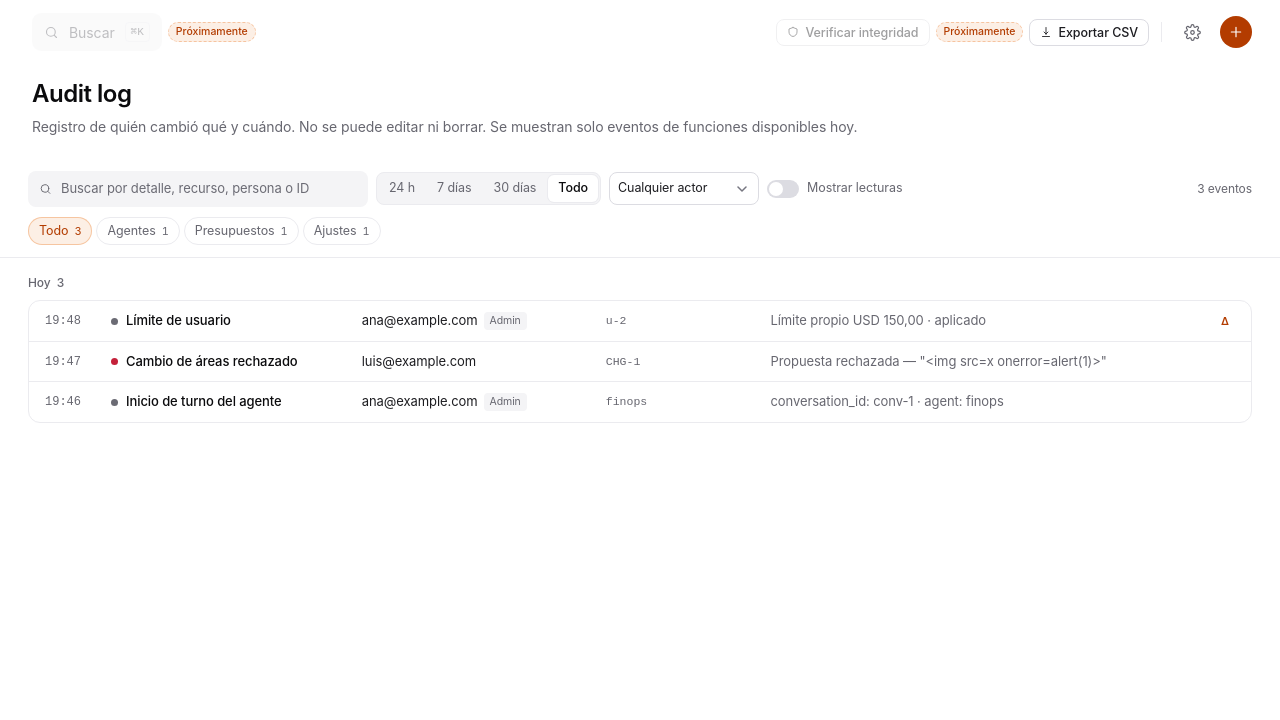
AdminAuditPage › opens the side panel with before/after and filters by resource
The image size is (1280, 720).
Click the text "Límite de usuario" at (171, 320), box [111,312,231,328]
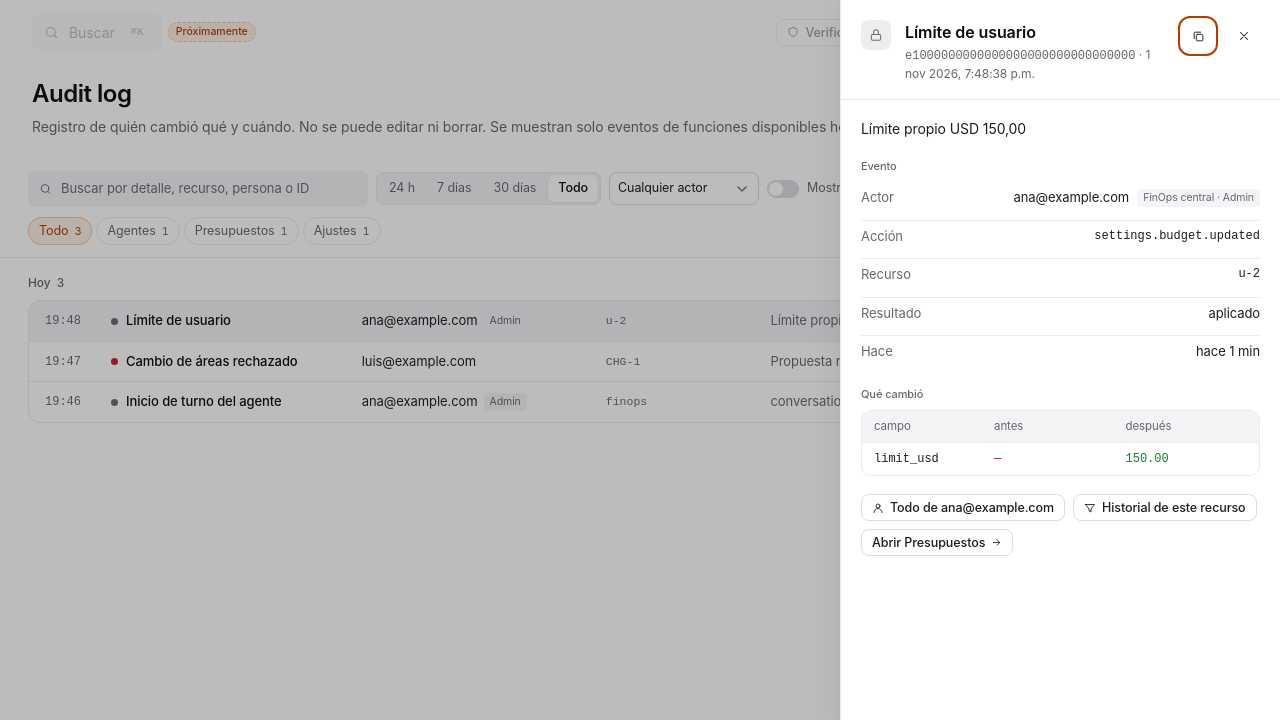
Expected: the heading "Qué cambió" is shown, [861,387,923,401]
Expected: the text "limit_usd" is shown, [874,452,939,466]
Expected: the text "150.00" is shown, [1126,452,1169,466]
Click the button "Historial de este recurso" at (1165, 508), box [1073,494,1257,521]
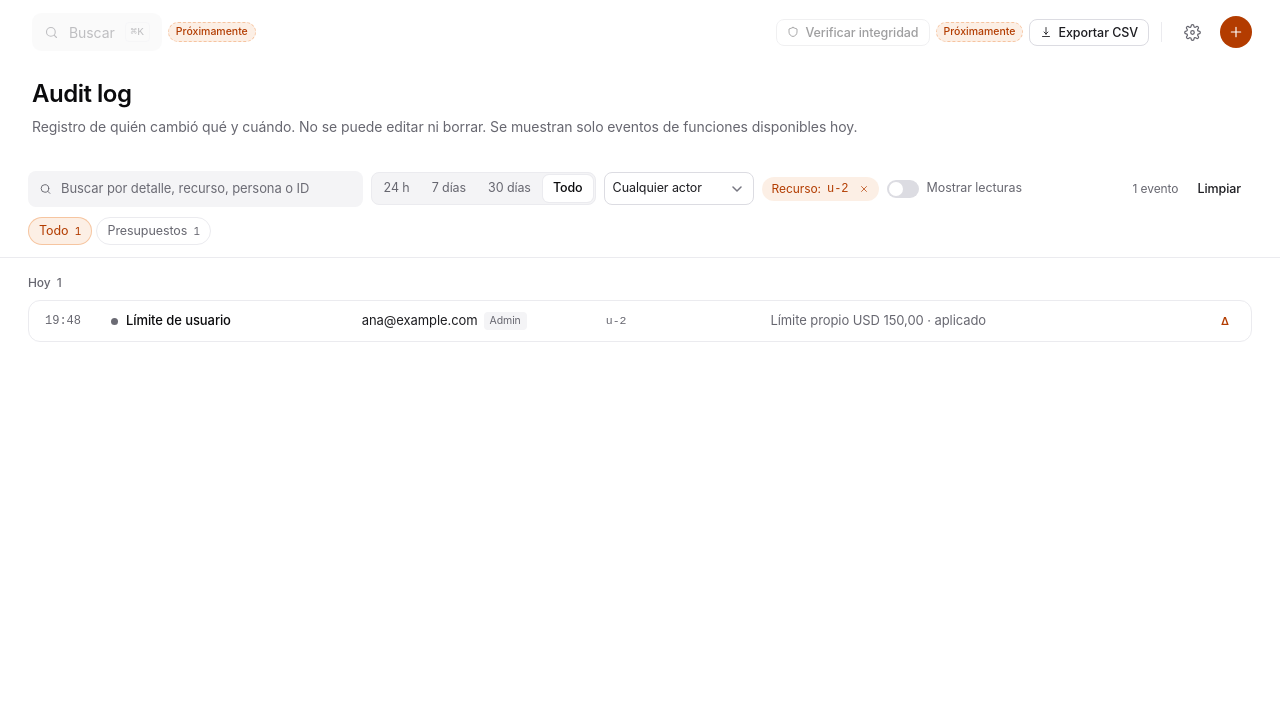
Expected: the text "u-2" next to "Recurso:" is shown, [827,182,848,196]
Expected: the dialog is gone
Expected: the text "1 evento" is shown, [1132,180,1178,198]
